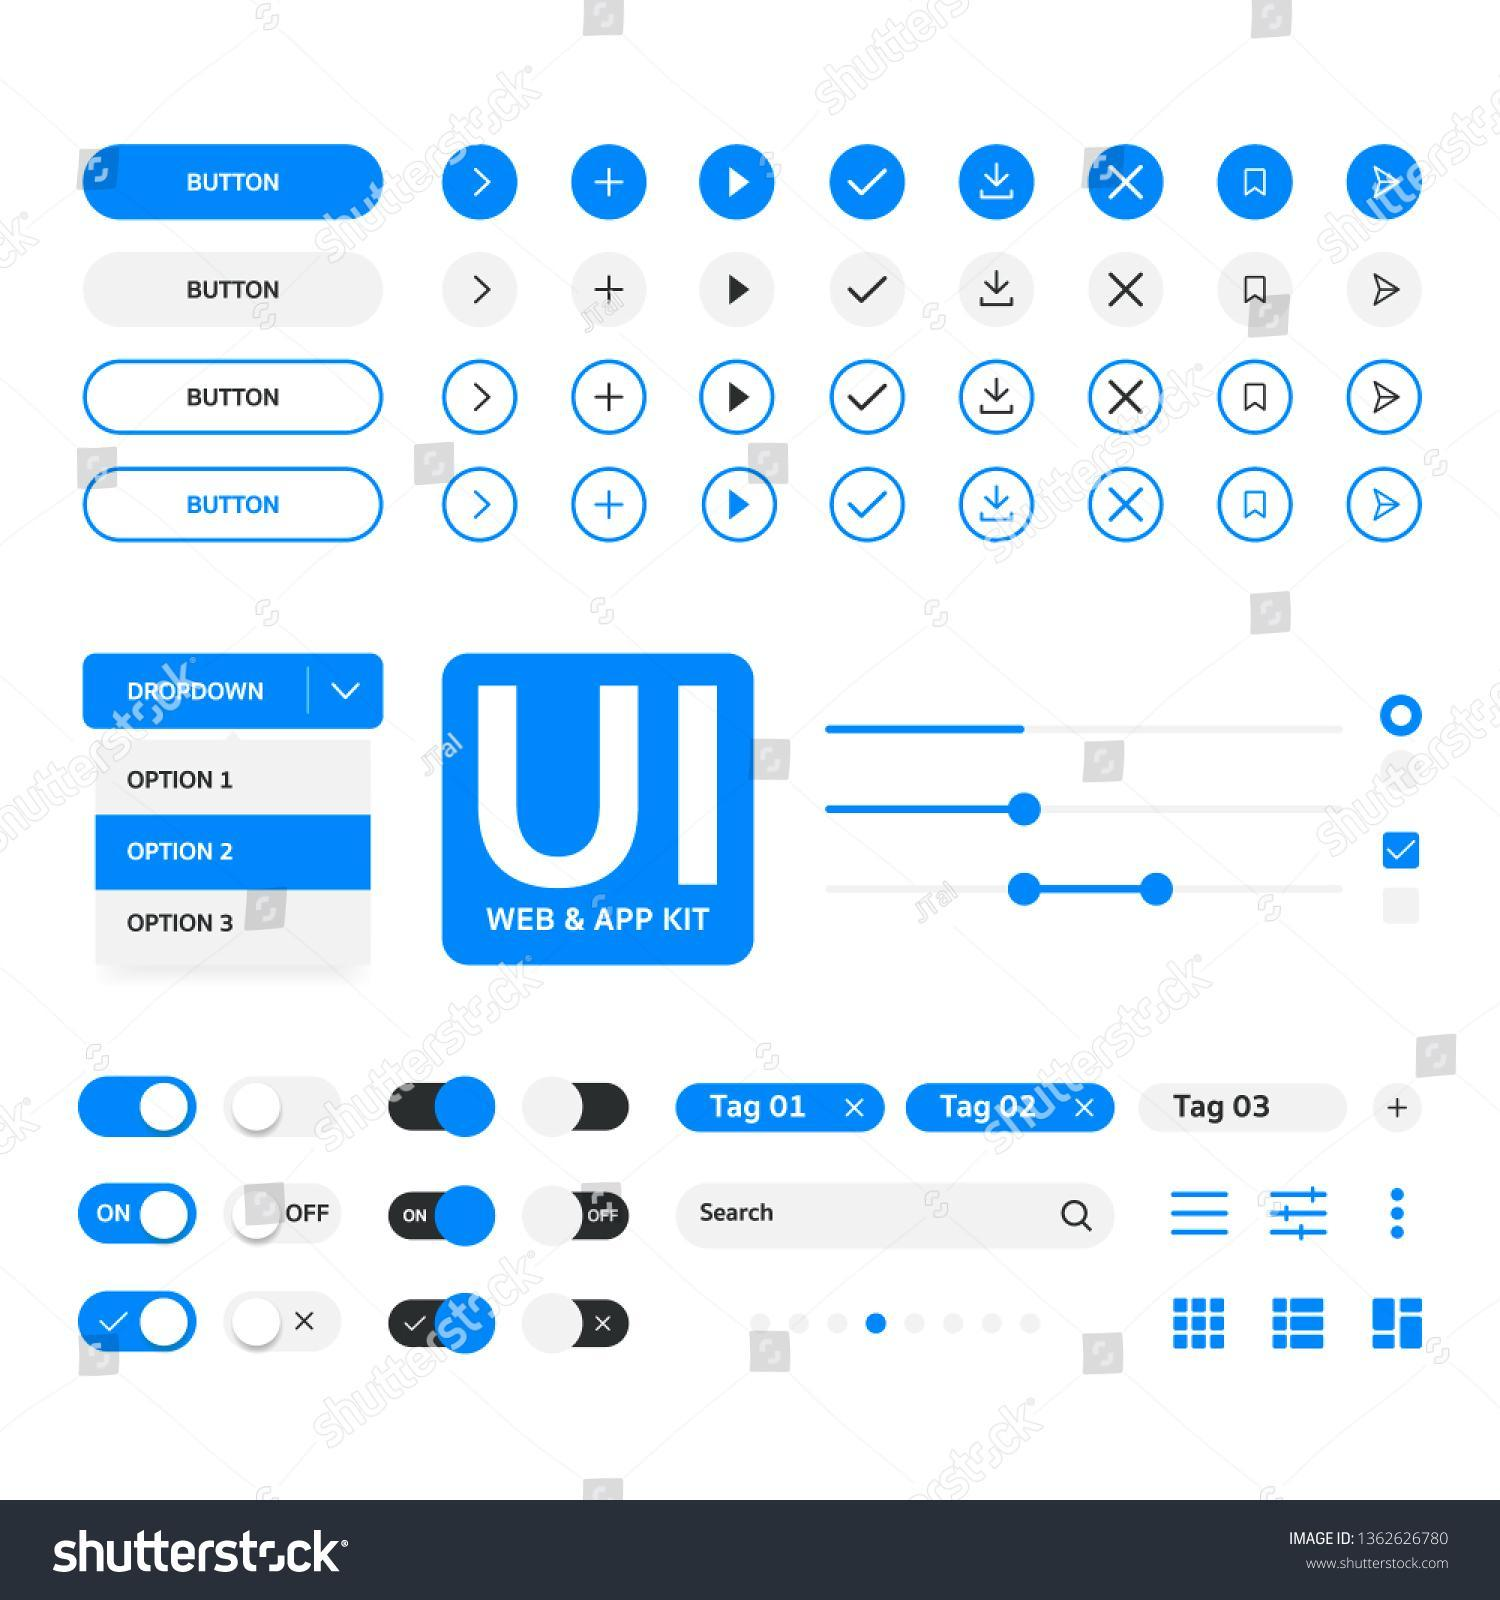button: (82, 461, 385, 547), (82, 144, 389, 224), (79, 254, 382, 333), (79, 364, 385, 441), (1212, 141, 1301, 230), (832, 461, 914, 548), (957, 137, 1038, 226), (701, 462, 785, 546), (1081, 137, 1164, 221), (1078, 462, 1160, 547), (1342, 359, 1427, 441), (959, 462, 1035, 553), (1342, 469, 1432, 546), (828, 141, 909, 224), (957, 352, 1038, 437), (431, 362, 517, 441), (562, 141, 648, 220), (565, 359, 653, 437), (699, 244, 775, 333), (694, 359, 778, 438), (699, 137, 775, 224), (570, 465, 648, 546), (832, 357, 909, 437), (828, 252, 908, 330), (1344, 142, 1424, 220), (1217, 461, 1293, 543), (1349, 244, 1422, 328), (436, 142, 515, 220), (957, 252, 1038, 328), (441, 469, 526, 541), (1091, 352, 1162, 437), (1219, 354, 1289, 438), (574, 252, 648, 328), (1093, 250, 1160, 333), (444, 257, 515, 333), (1224, 250, 1291, 326)
checkbox: (1377, 880, 1428, 935), (1377, 822, 1424, 874)
dropdown: (83, 656, 385, 732)
icon: (1260, 1291, 1339, 1365), (1164, 1287, 1238, 1362), (1164, 1176, 1234, 1253), (1267, 1177, 1336, 1250), (1367, 1291, 1435, 1362), (1369, 1077, 1427, 1133), (1379, 1179, 1421, 1246)
input: (670, 1176, 1117, 1243)
radio: (1376, 751, 1432, 808), (1379, 687, 1428, 739)
slider: (819, 775, 1362, 849), (823, 871, 1362, 928), (812, 696, 1355, 751)
switch: (76, 1074, 202, 1150), (374, 1076, 505, 1143), (76, 1181, 203, 1250), (221, 1071, 345, 1139), (85, 1287, 203, 1352), (383, 1184, 498, 1250), (221, 1291, 347, 1350), (224, 1177, 336, 1243), (522, 1076, 637, 1138), (522, 1181, 634, 1245), (379, 1291, 495, 1348), (524, 1291, 627, 1352)
